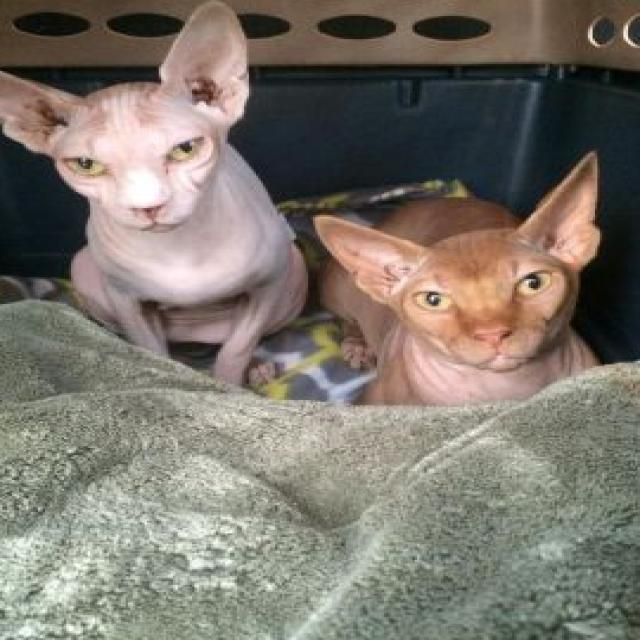Sphynx: (0, 0, 313, 398), (308, 144, 616, 410)
